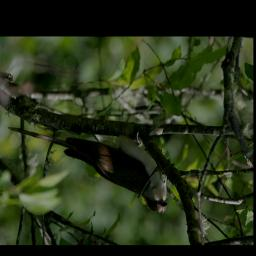Cuckoo: (6, 123, 168, 215)
